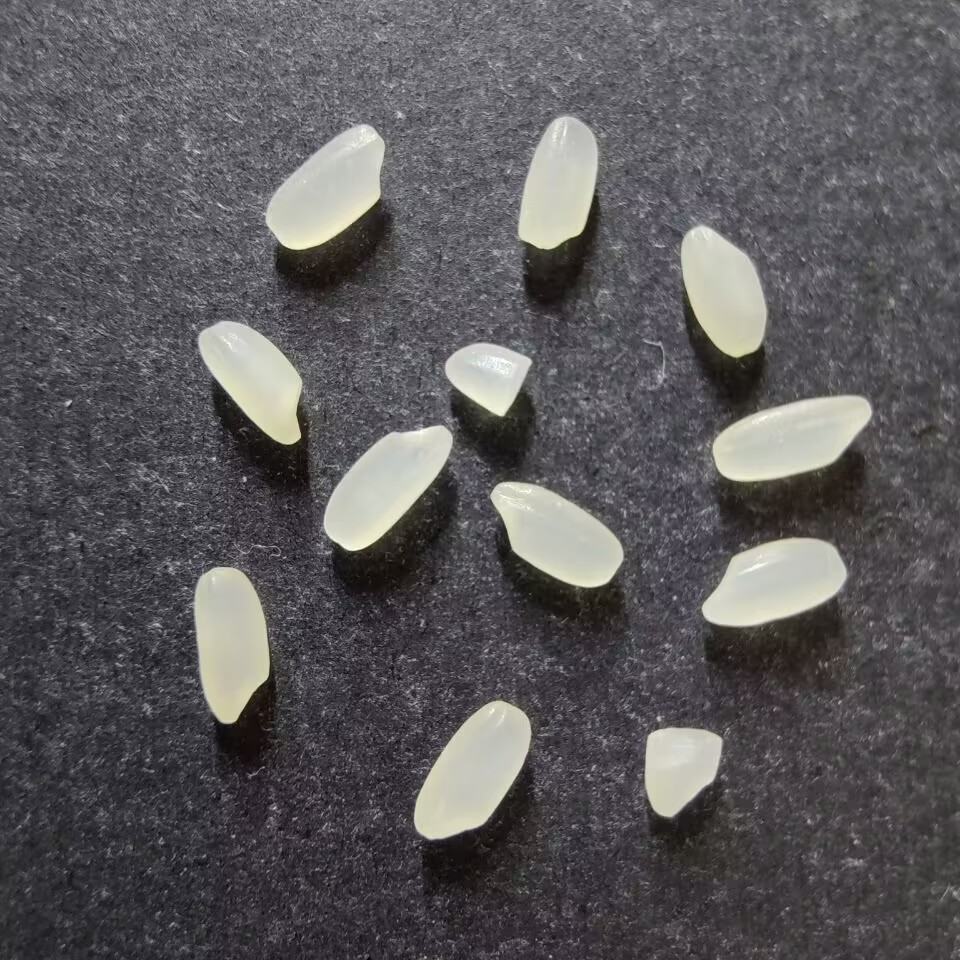rice: (322, 424, 453, 551), (413, 700, 531, 839), (264, 123, 386, 250), (488, 481, 624, 588), (711, 394, 873, 481), (197, 319, 303, 445), (700, 537, 846, 626), (193, 566, 270, 724), (680, 225, 767, 357), (517, 116, 598, 250)
